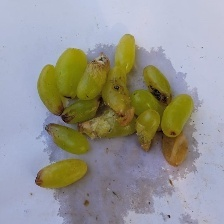grapes: (35, 54, 208, 198)
